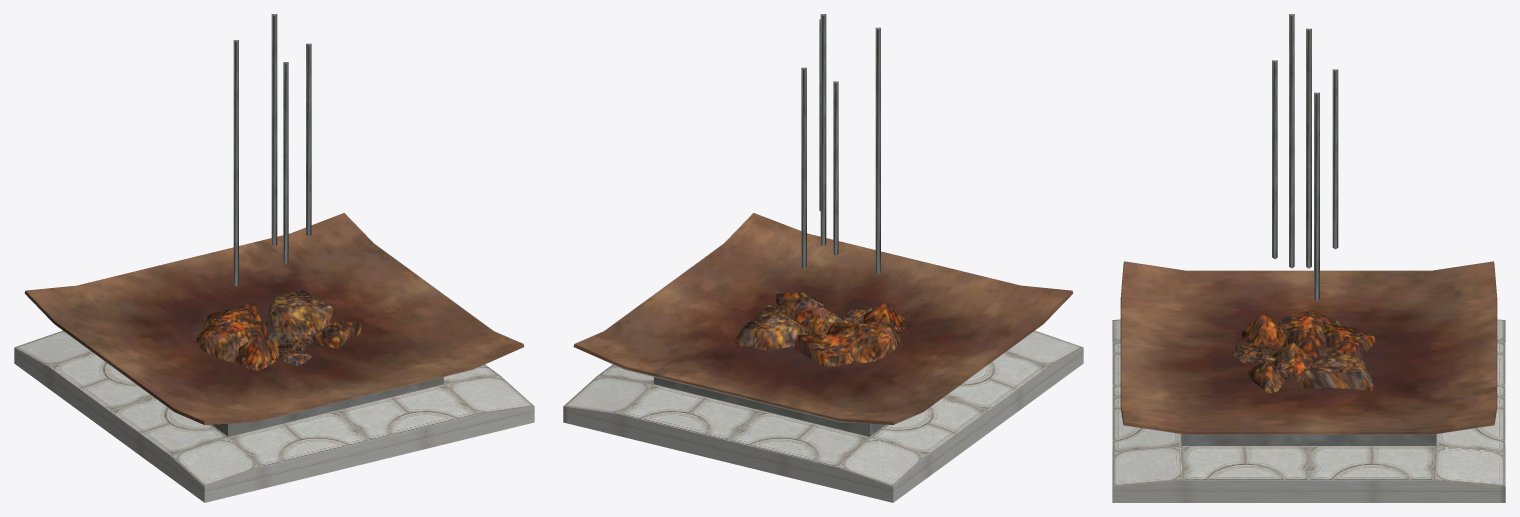
Rendered from thm_corl_fountain_brazier_square_s01_l2.fbx.
The picture shows the model from 3 angles, left to right: view 1: azimuth 30°, elevation 25°; view 2: azimuth 150°, elevation 25°; view 3: azimuth 270°, elevation 25°; orthographic projection. The views are drawn at different scales.
Parts seen in each view (by area): view 1: mesh_node; view 2: mesh_node; view 3: mesh_node.
Boxes of the visible parts, x1,y1,x2,y2 form: mesh_node: [14, 14, 534, 502]; mesh_node: [563, 14, 1083, 502]; mesh_node: [1112, 14, 1505, 502].
Bounding box in the file's own units: 6 × 6.57 × 6.
Materials: 1 (1 with a texture image).
